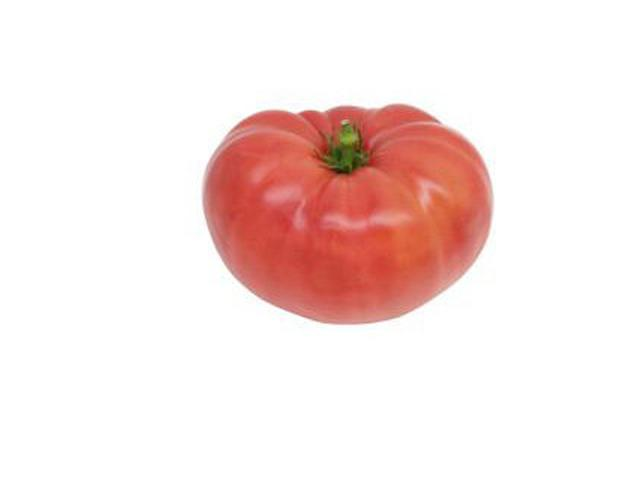tomato: (204, 109, 493, 322)
